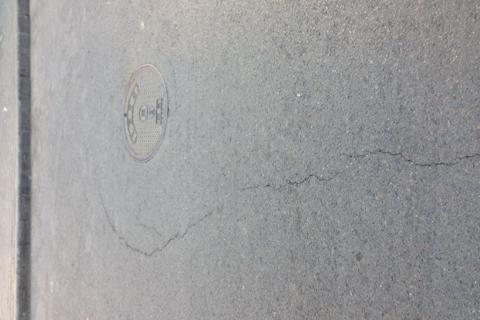crack: (82, 148, 480, 263)
